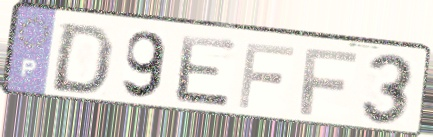3: (358, 53, 417, 128)
9: (120, 29, 169, 102)
D: (47, 21, 117, 97)
E: (173, 32, 239, 111)
F: (297, 47, 360, 118), (235, 40, 297, 111)
